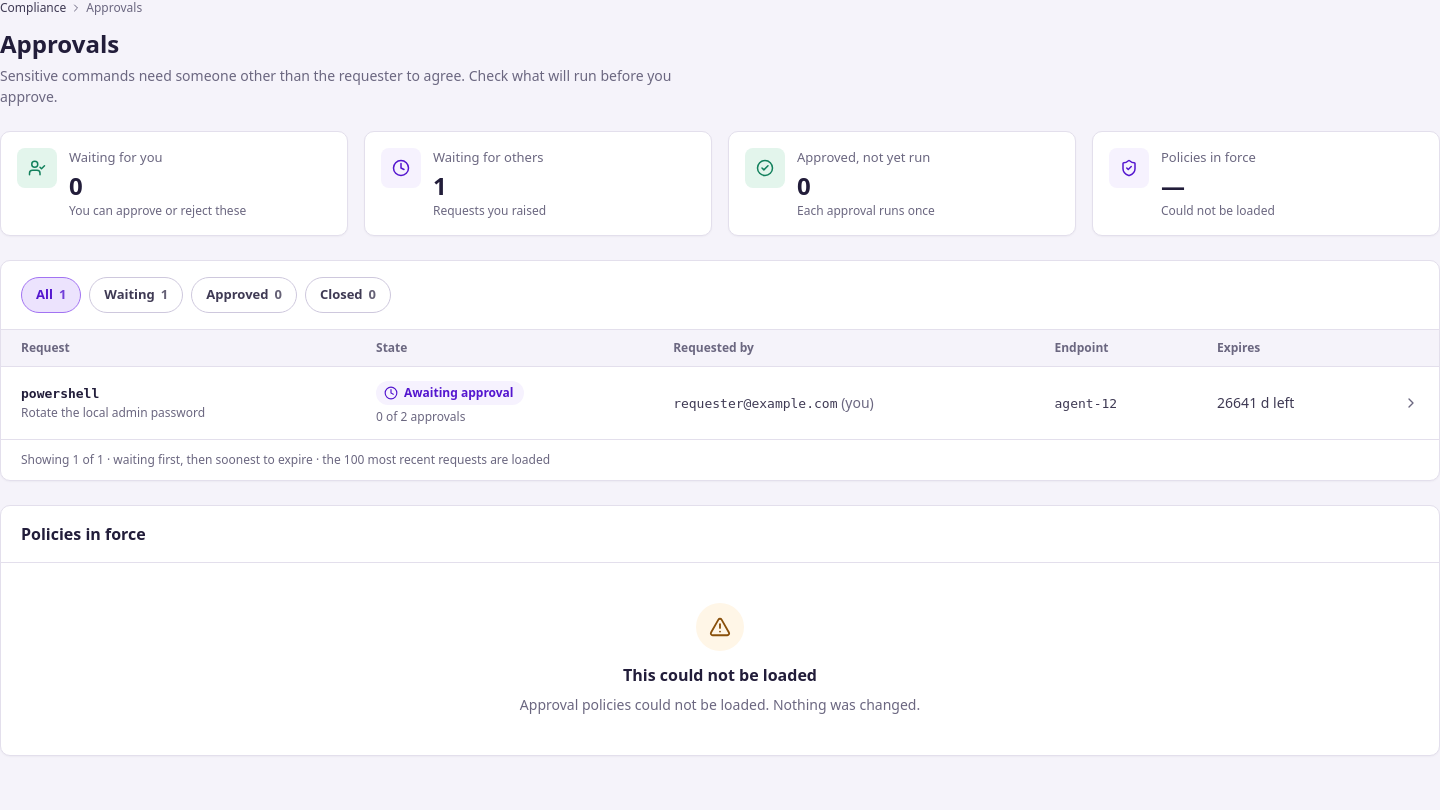
the requester gets no approve or reject control on their own request
Step 1. Click the row named "Review powershell request" → {"x": 720, "y": 403}, box top-left (1, 366), bottom-right (1439, 439)
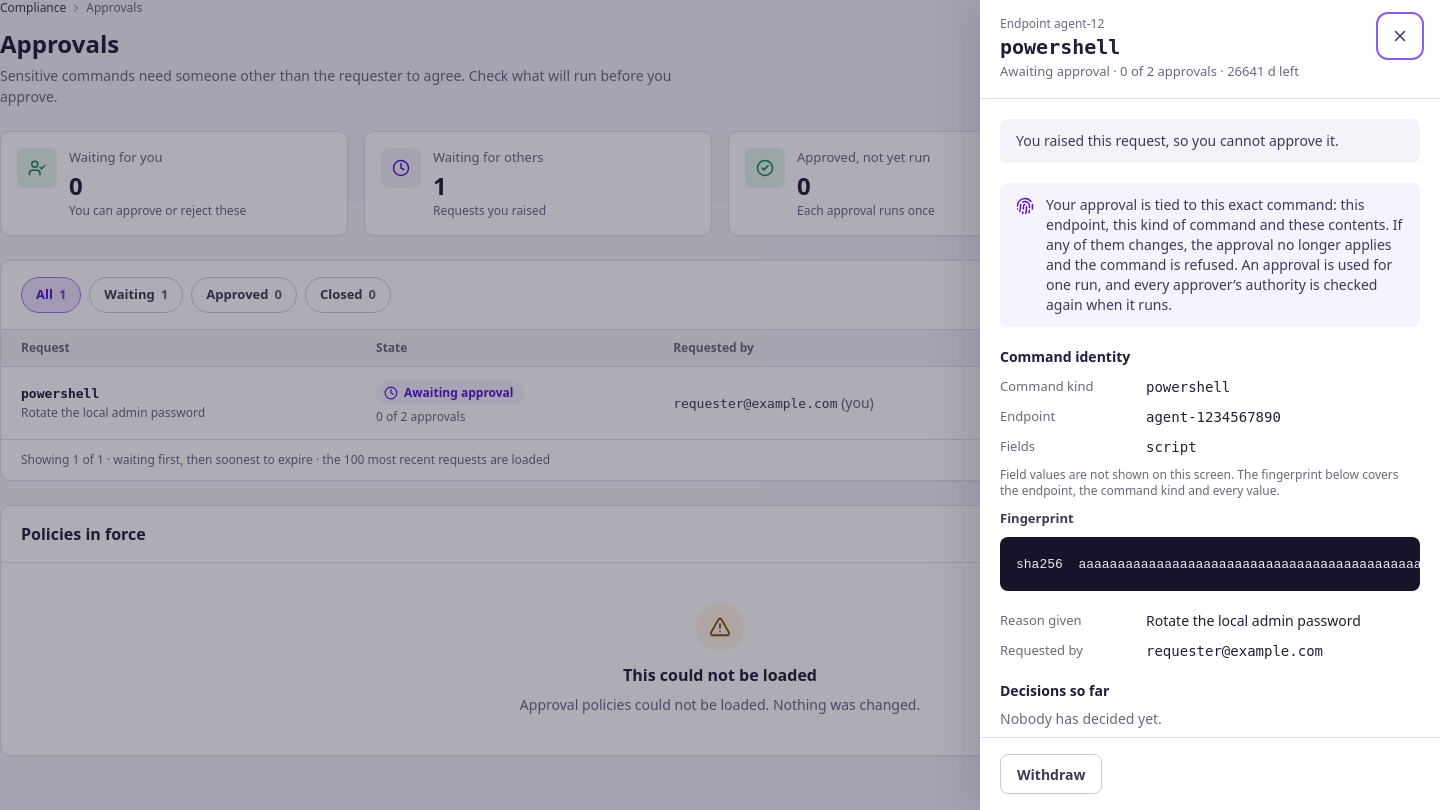
expect the button "Withdraw" is shown: met, box top-left (1000, 754), bottom-right (1102, 794)
expect the text "You raised this request, so you cannot approve it." is shown: met, box top-left (1000, 118), bottom-right (1420, 162)
